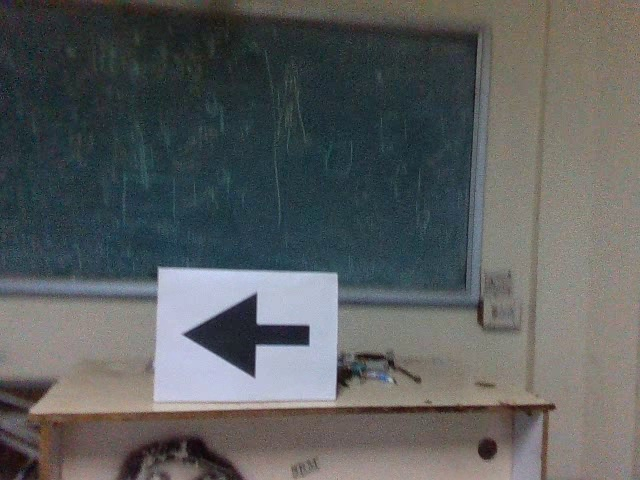Left: (173, 283, 313, 387)
